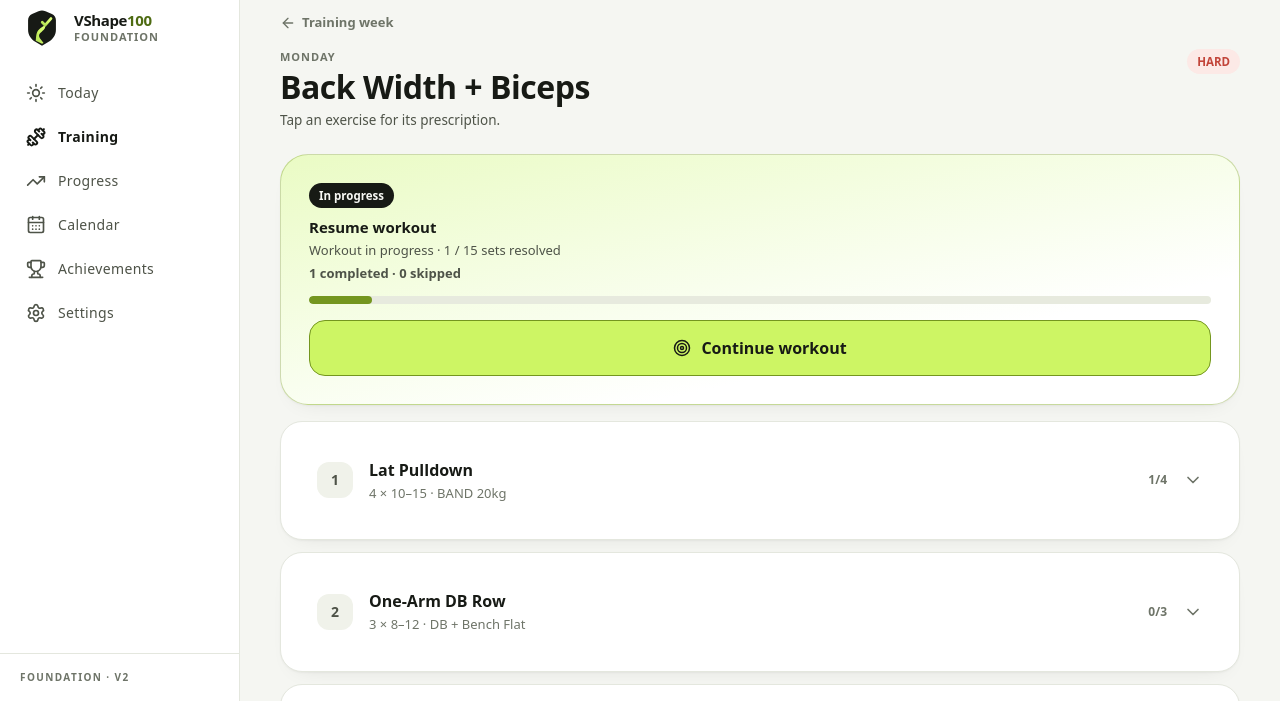
Test case: 2. starting-load calibration › 3. Too light points one step up and names no number of its own
Expected: the heading "Back Width + Biceps" is shown, [280, 69, 590, 106]
Expected: the text "Resume workout" is shown, [309, 217, 436, 237]
Click the button "1 Lat Pulldown 4 × 10–15 · BAND 20kg 1/4" at coordinates (335, 480), box [301, 442, 1219, 519]
(page scrolled)
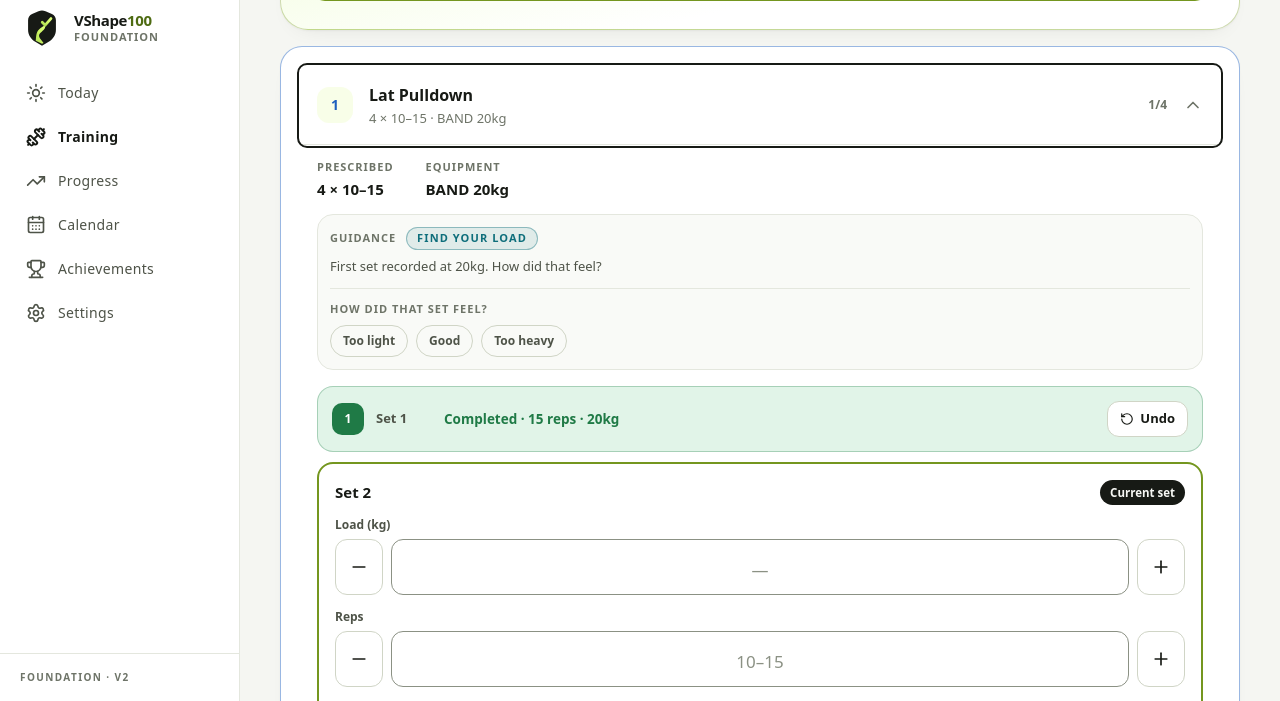
Click the button "Too light" at coordinates (369, 341), box [330, 325, 408, 357]
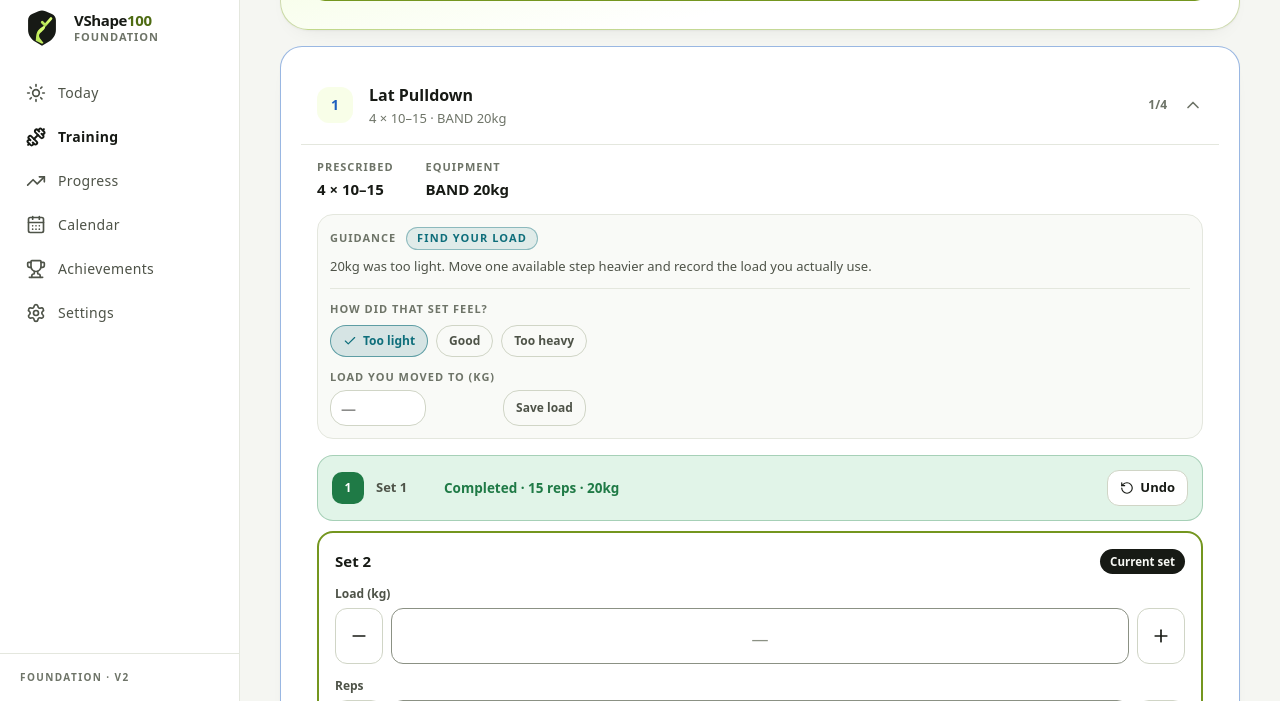
Now the text "Move one available step heavier" is shown, box [330, 257, 872, 275]
Now the field labelled "Load you moved to (kg)" is shown, box [330, 390, 426, 426]
